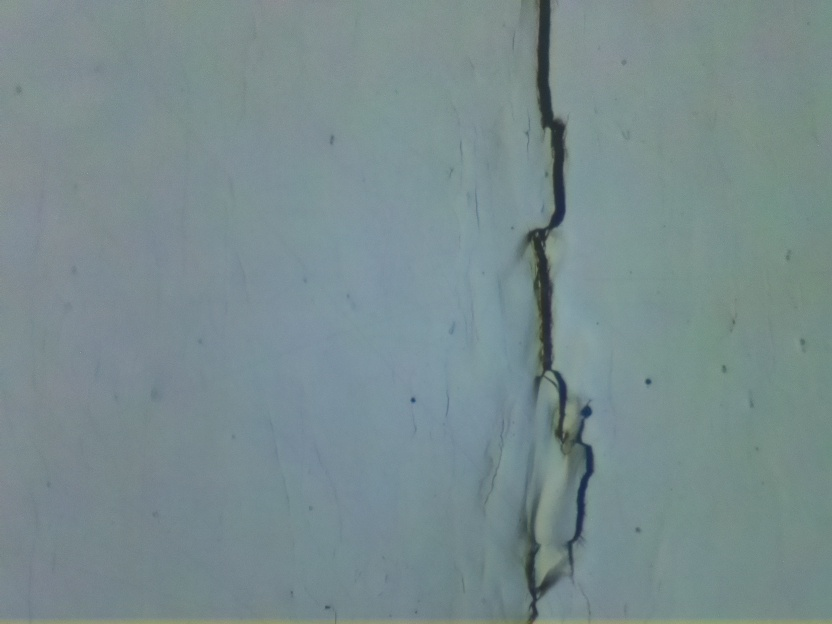crack: (514, 0, 600, 624)
